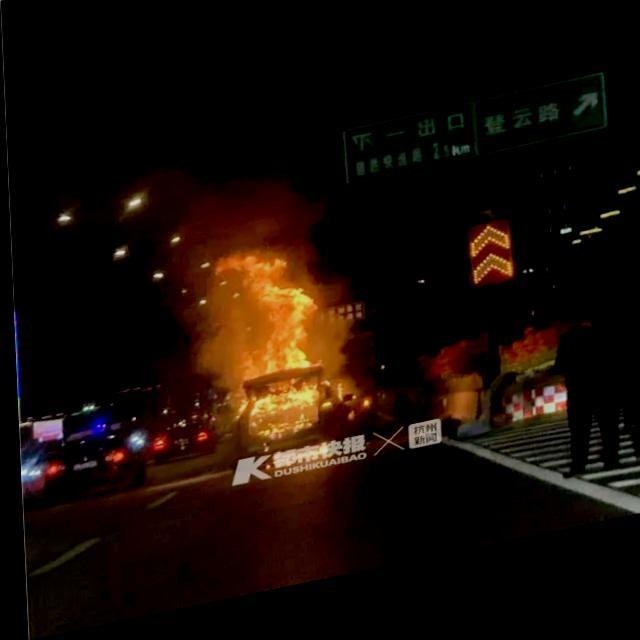Fire: (203, 247, 339, 459)
